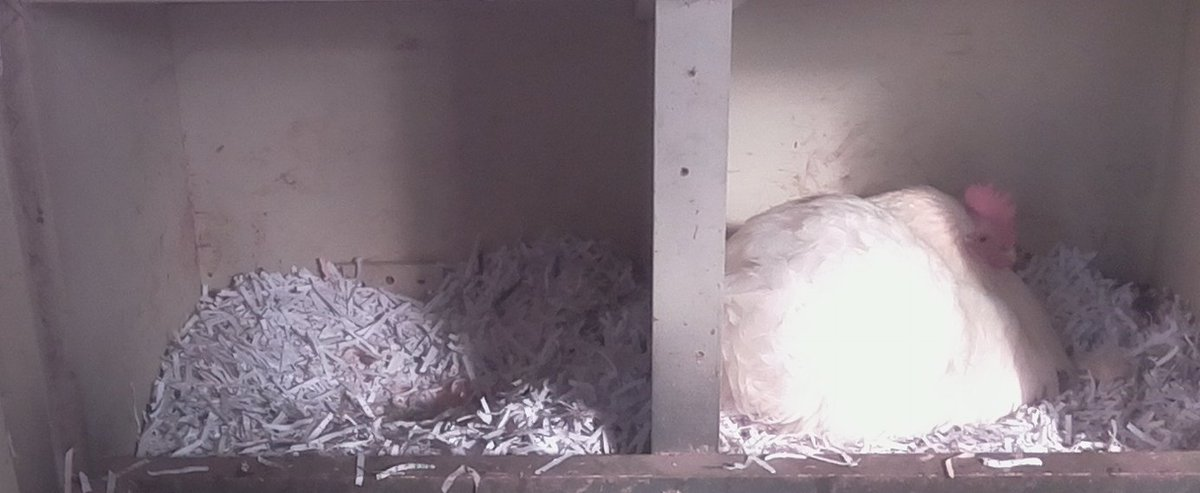hen: (727, 174, 1079, 443)
